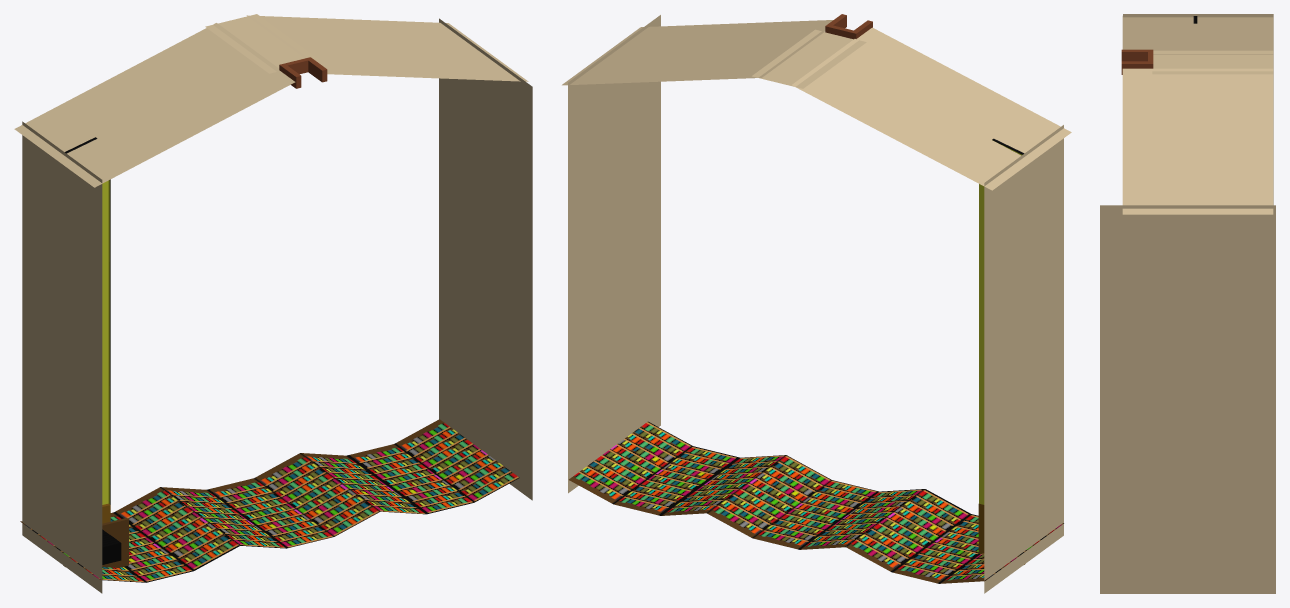
The model's file is playstage_noFloor.fbx.
The picture shows the model from 3 angles, left to right: view 1: azimuth 30°, elevation 25°; view 2: azimuth 150°, elevation 25°; view 3: azimuth 270°, elevation 25°; orthographic projection. The views are drawn at different scales.
Visible parts, largest first — view 1: Stage; view 2: Stage; view 3: Stage.
Boxes of the visible parts, x1=… form: Stage: x1=14, y1=14, x2=532, y2=593; Stage: x1=562, y1=14, x2=1071, y2=593; Stage: x1=1100, y1=14, x2=1275, y2=593.
Size of the model in its own units: 125 by 130 by 46.67.
1 material, 1 textured.
